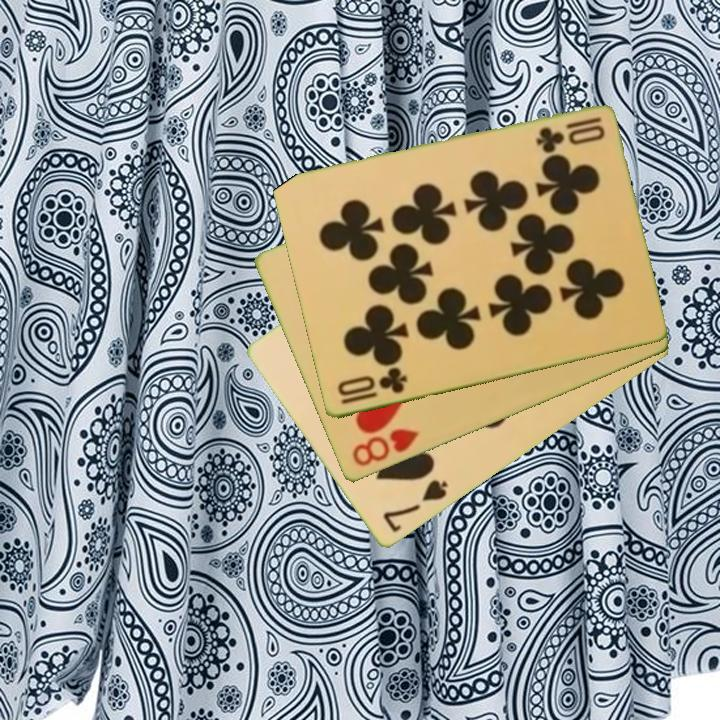10c: (333, 365, 410, 408), (532, 114, 608, 154)
7s: (379, 476, 451, 536)
8h: (348, 425, 422, 470)
